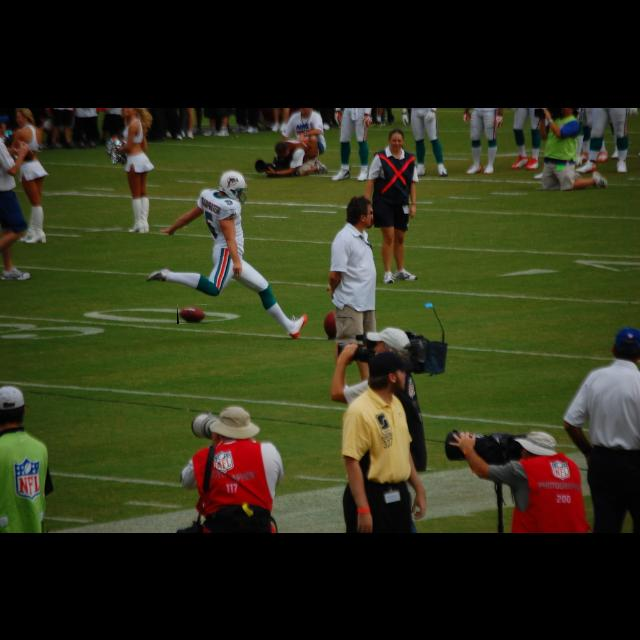Football: (177, 304, 207, 324)
